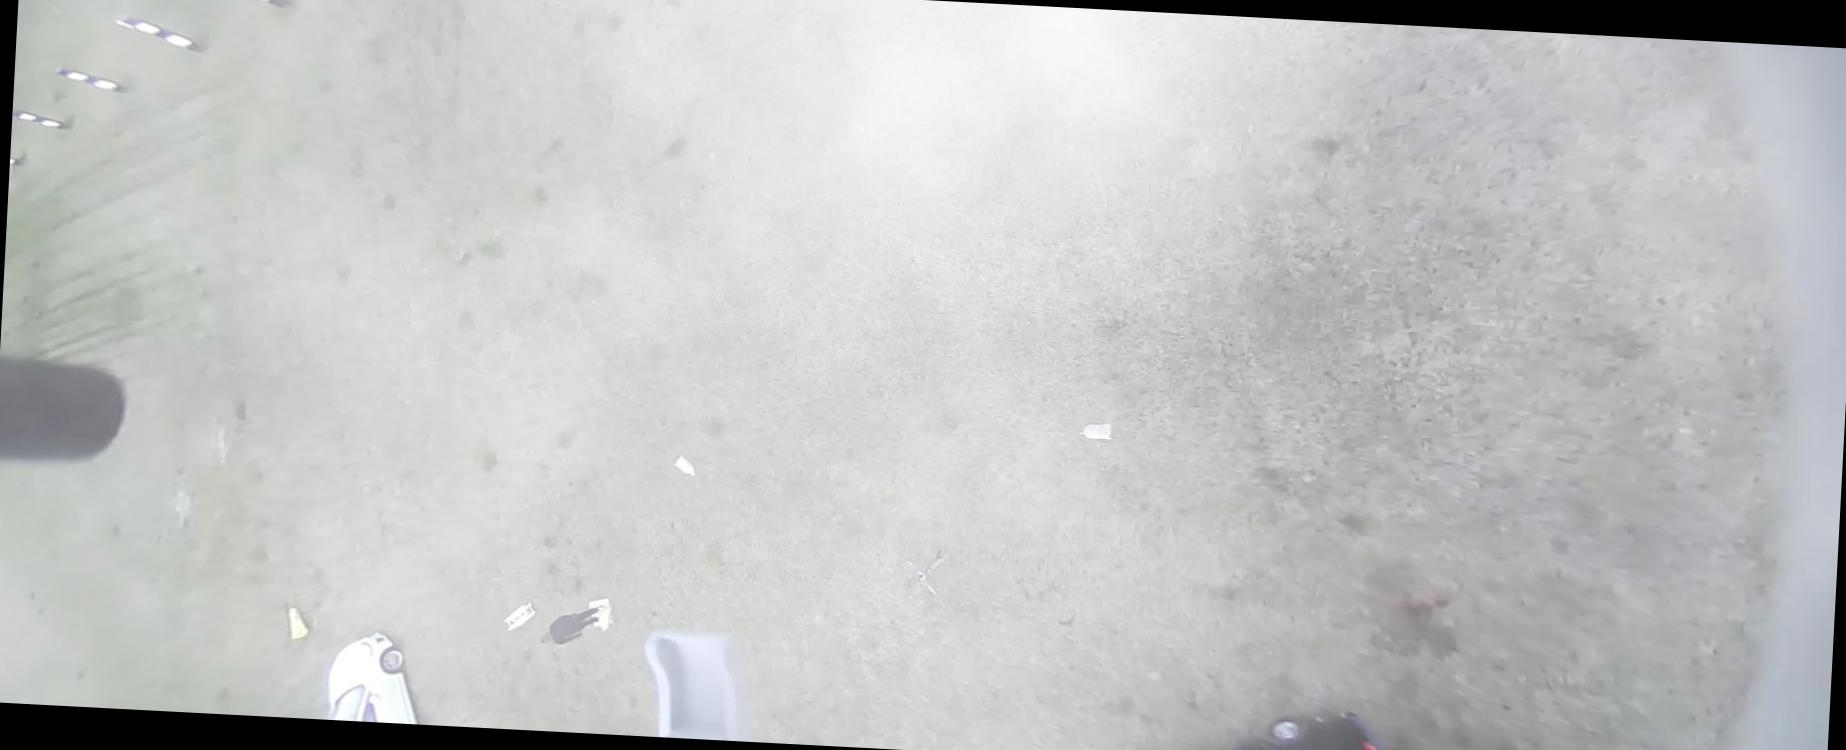vehicle: (325, 628, 422, 723), (1223, 705, 1401, 749)
